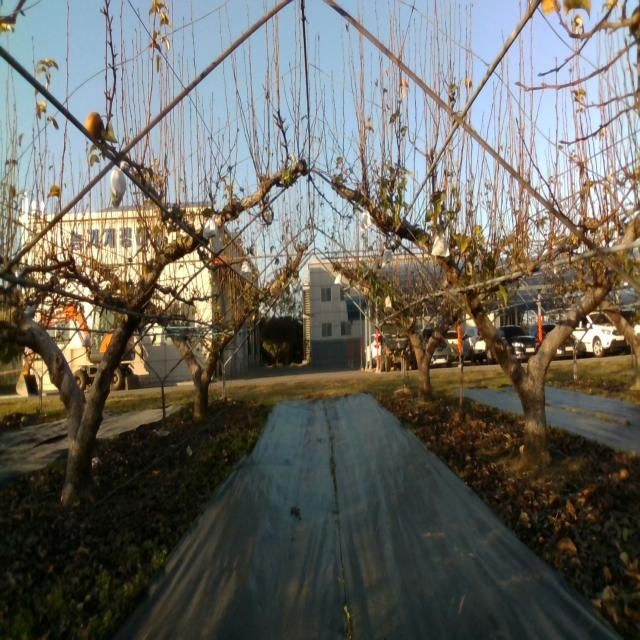pearbags: (110, 161, 128, 211), (431, 232, 450, 258), (203, 213, 218, 240), (359, 210, 372, 232), (382, 248, 392, 267)
